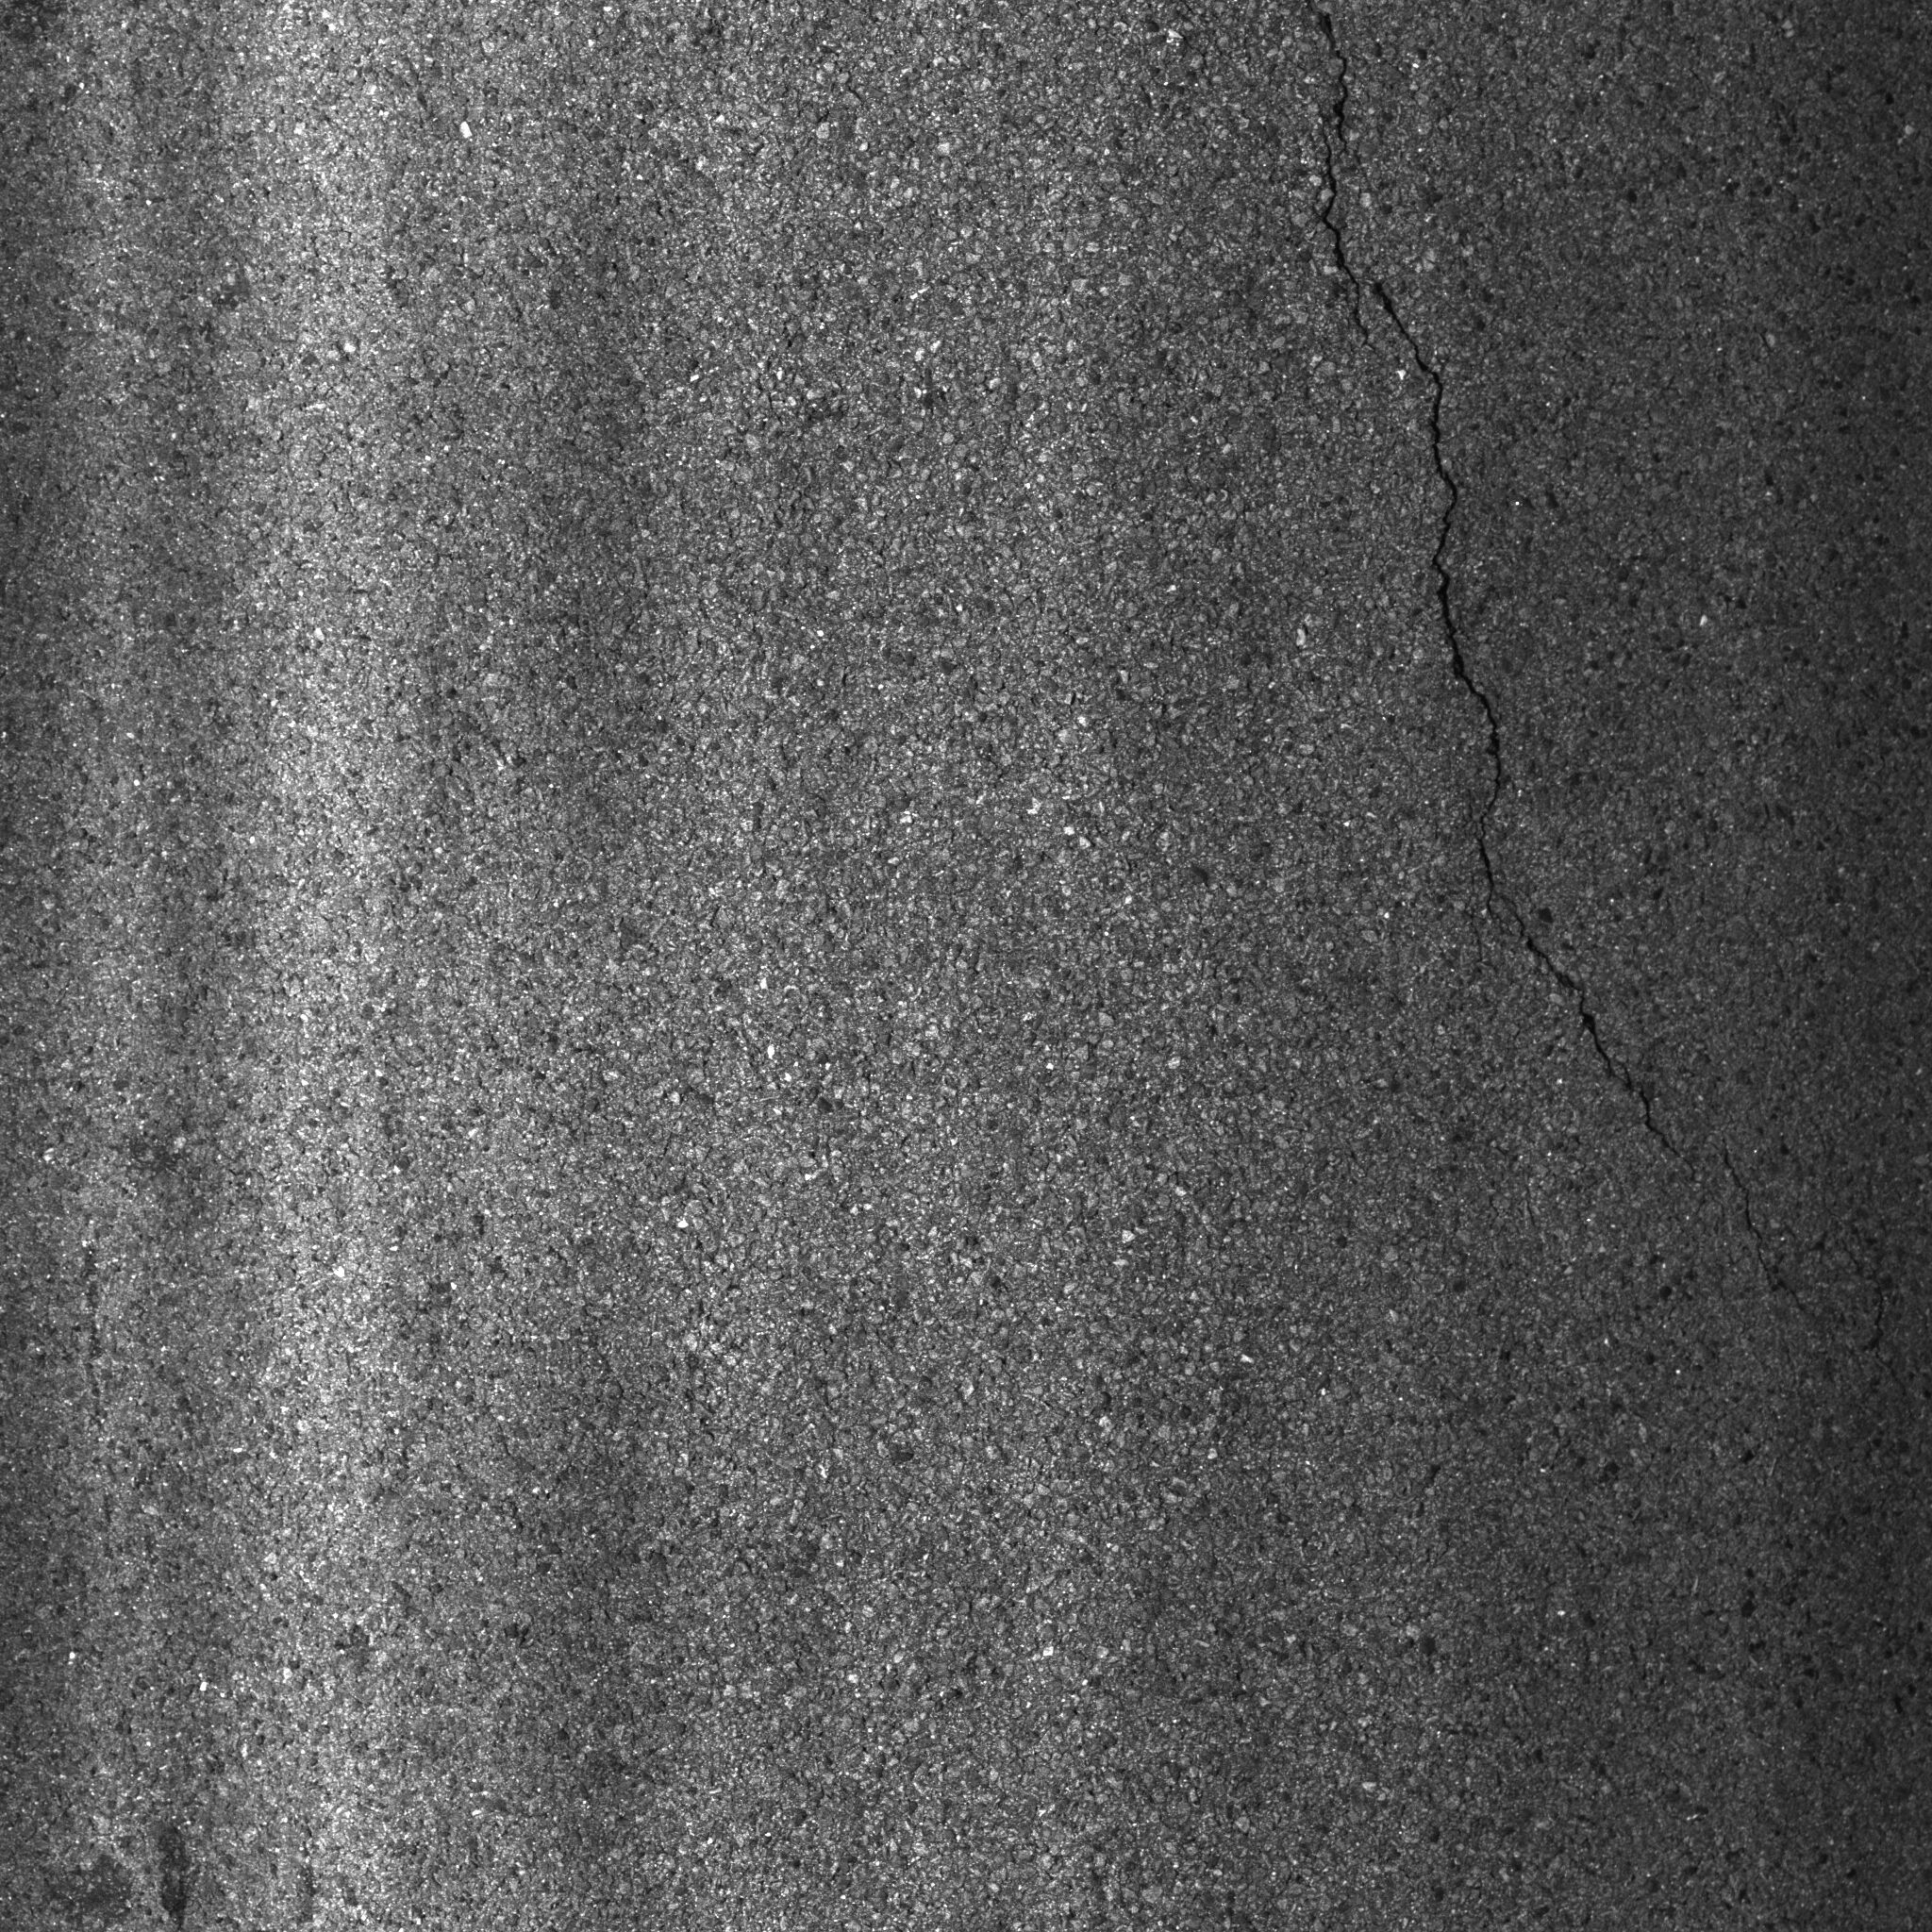longitudinal: (1265, 5, 1918, 1362)
